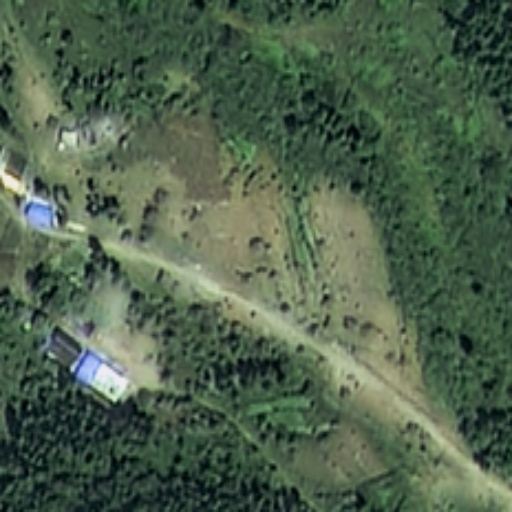landslide: (187, 148, 409, 358)
